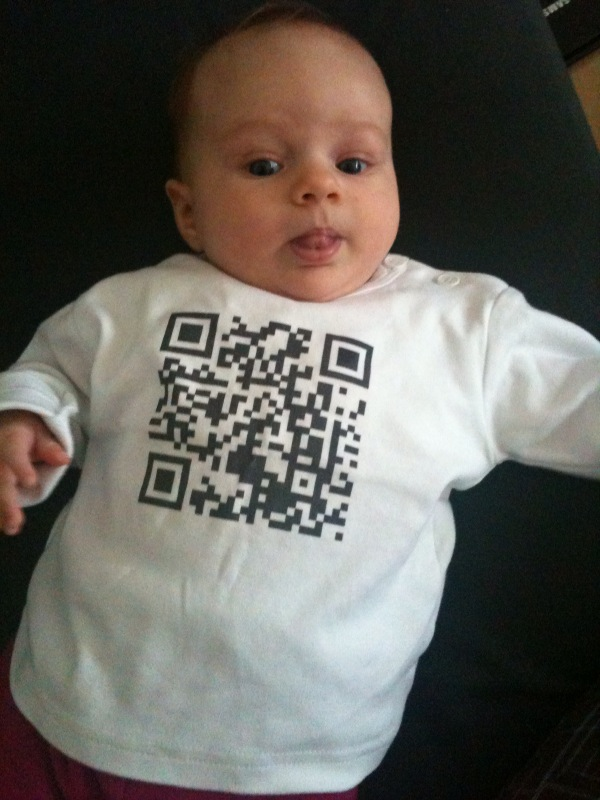QR-CODE: (138, 312, 373, 542)
